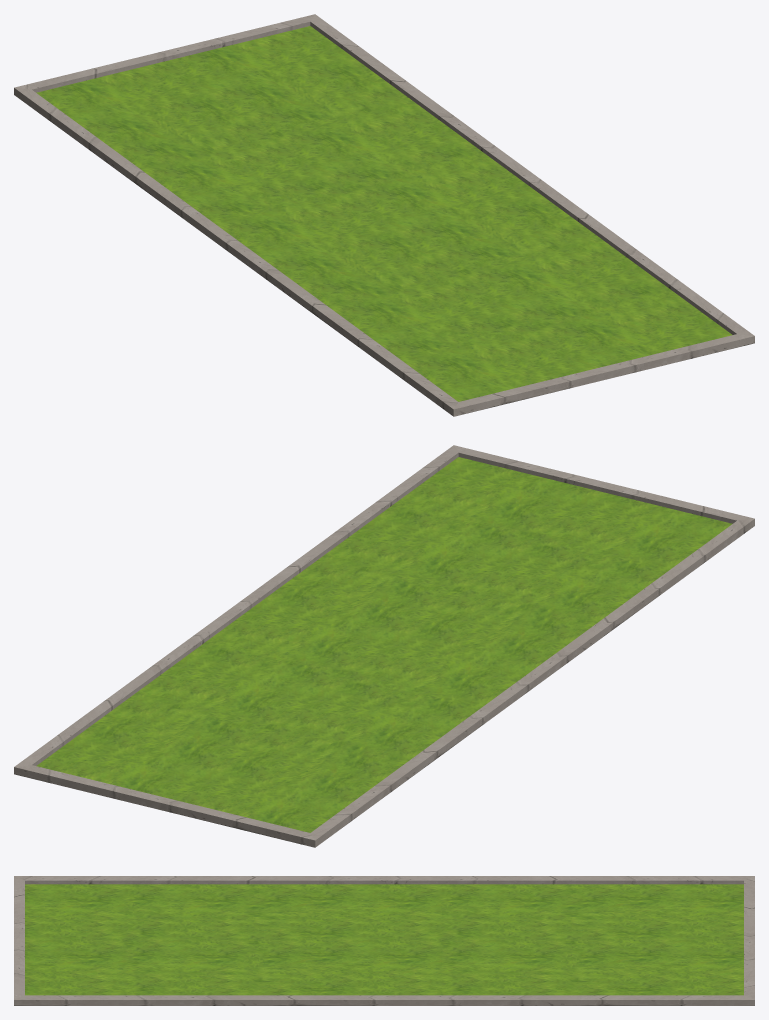
Rendered from GrassTile_J.fbx.
3 views of the same model, one above another, from view 1: azimuth 30°, elevation 25°; view 2: azimuth 150°, elevation 25°; view 3: azimuth 270°, elevation 25° (orthographic). The views are drawn at different scales.
Parts seen in each view (by area): view 1: GrassTile_J; view 2: GrassTile_J; view 3: GrassTile_J.
Part boxes in pixels (box(x1,y1,x2,y2)): GrassTile_J: box(14, 14, 754, 416); GrassTile_J: box(14, 445, 754, 847); GrassTile_J: box(14, 876, 754, 1005).
Bounding box in the file's own units: 1313 × 30.34 × 3322.
2 materials, 2 textured.
